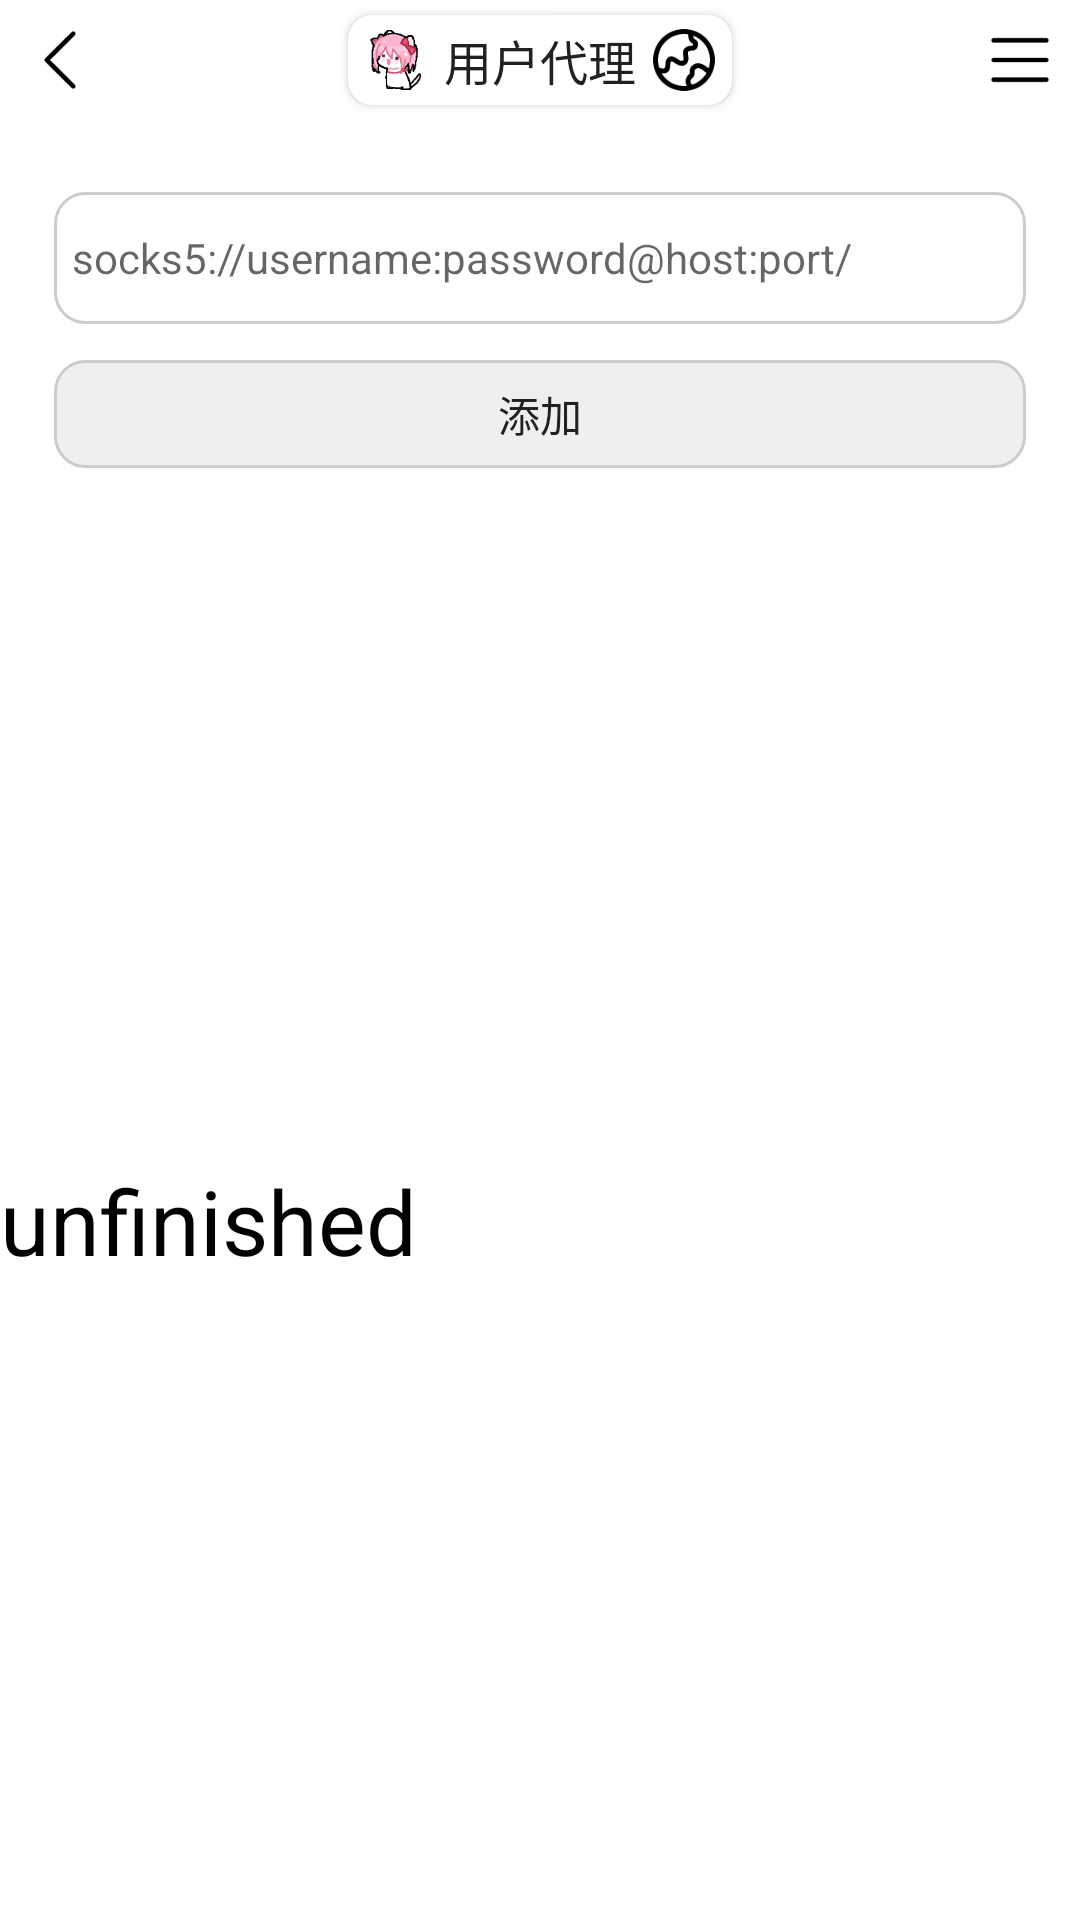

Icons on this 1080 × 1920 Android screen, each with its box as (x1, y1, x2, y2):
arrow back: (44, 31, 76, 89)
menu: (991, 37, 1049, 83)
